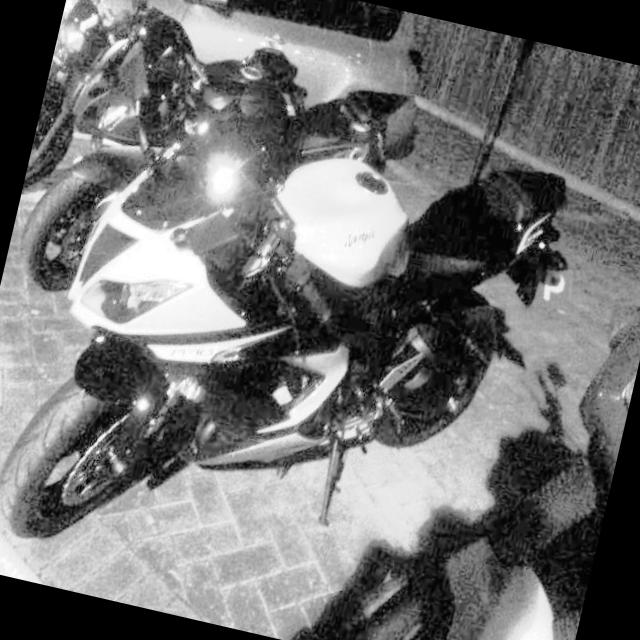Motorcycle: (0, 33, 587, 640), (15, 0, 389, 370), (34, 0, 227, 170)
